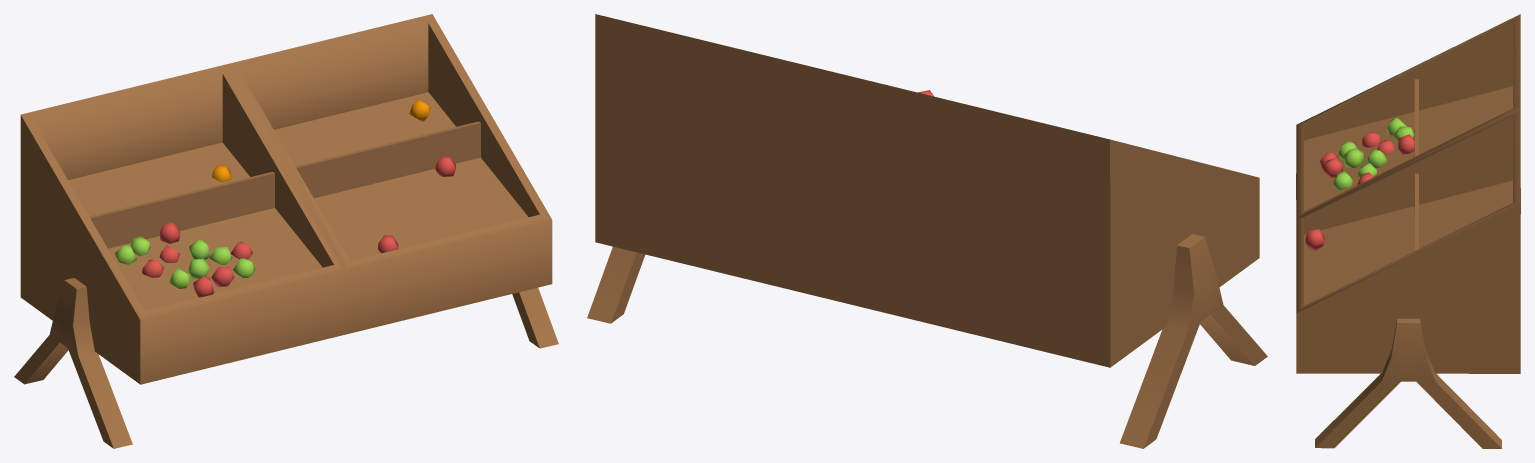
The model's file is saphoaqua.fbx.
3 renders of one model, left to right at view 1: azimuth 30°, elevation 25°; view 2: azimuth 150°, elevation 25°; view 3: azimuth 270°, elevation 25°, orthographic. The views are drawn at different scales.
Parts seen in each view (by area): view 1: sapbanqua; view 2: sapbanqua; view 3: sapbanqua.
Part boxes in pixels (box(x1,y1,x2,y2)): sapbanqua: box(14, 14, 558, 448); sapbanqua: box(587, 14, 1267, 448); sapbanqua: box(1296, 14, 1520, 448).
Size of the model in its own units: 159 by 86.83 by 74.
